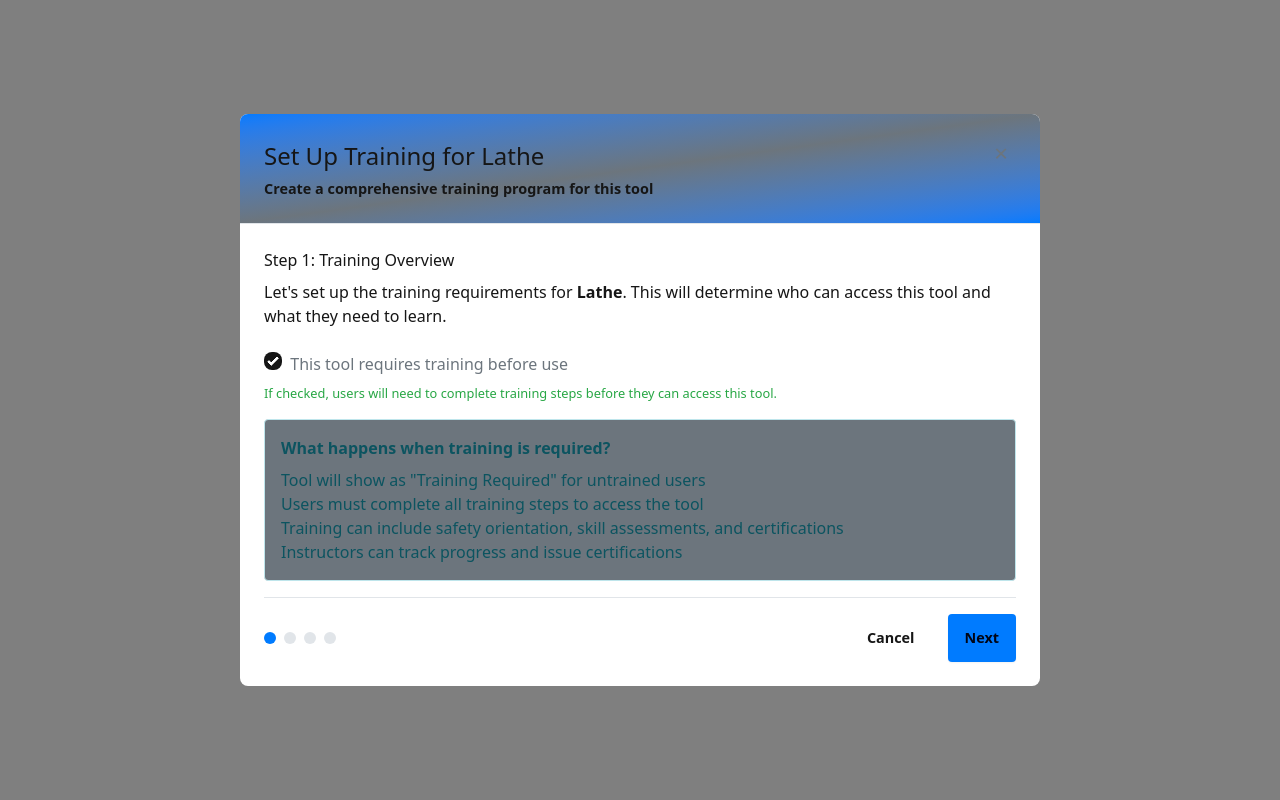
Test: walking the wizard › adds and removes steps, but never offers to remove the last one
Step 1. Click the button "Next" → x=982, y=638, box [948,614,1016,662]
(page scrolled)
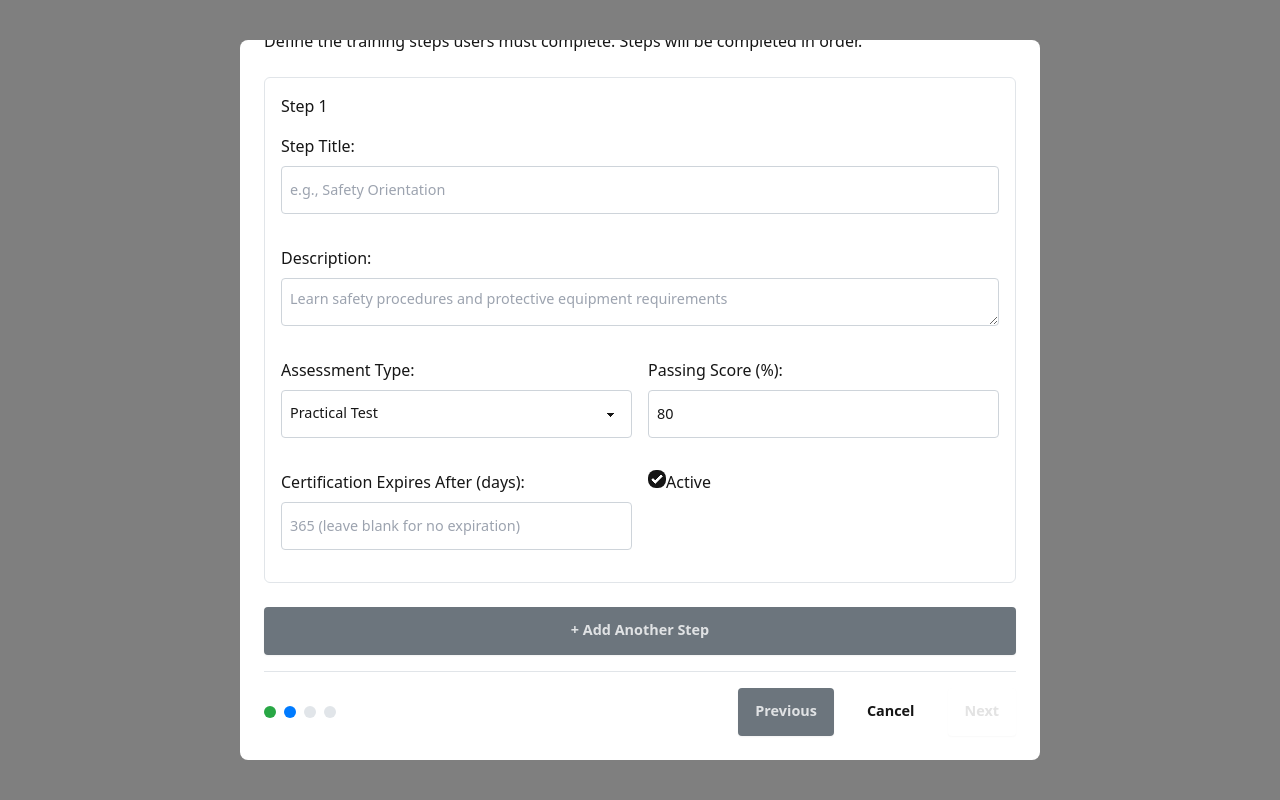
Now the number of fields is 1, box [281,166,999,214]
Step 2. Click the button "+ Add Another Step" → x=640, y=631, box [264,607,1016,655]
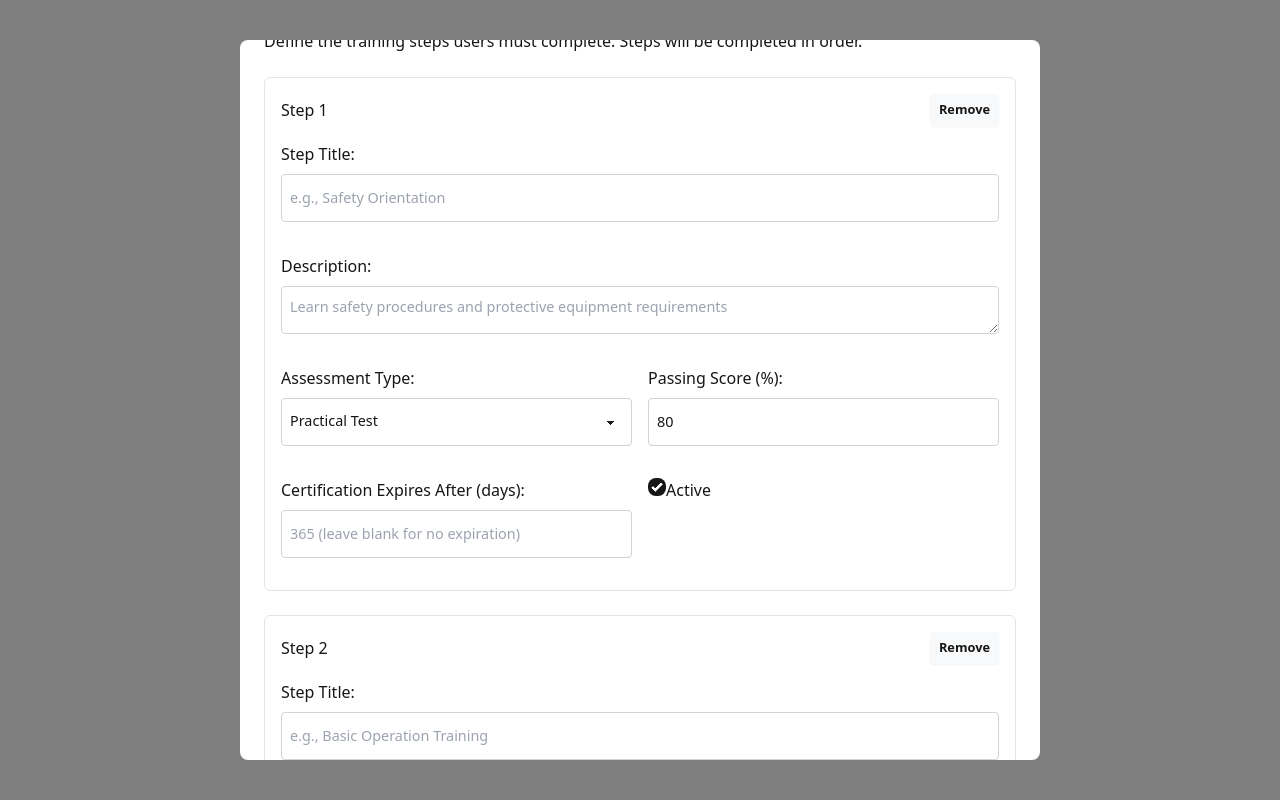
Now the number of fields is 2, box [281,174,999,222]; [281,712,999,760]
Step 3. Click the button "Remove" in the row of "Step 1" → x=964, y=110, box [930,94,999,126]
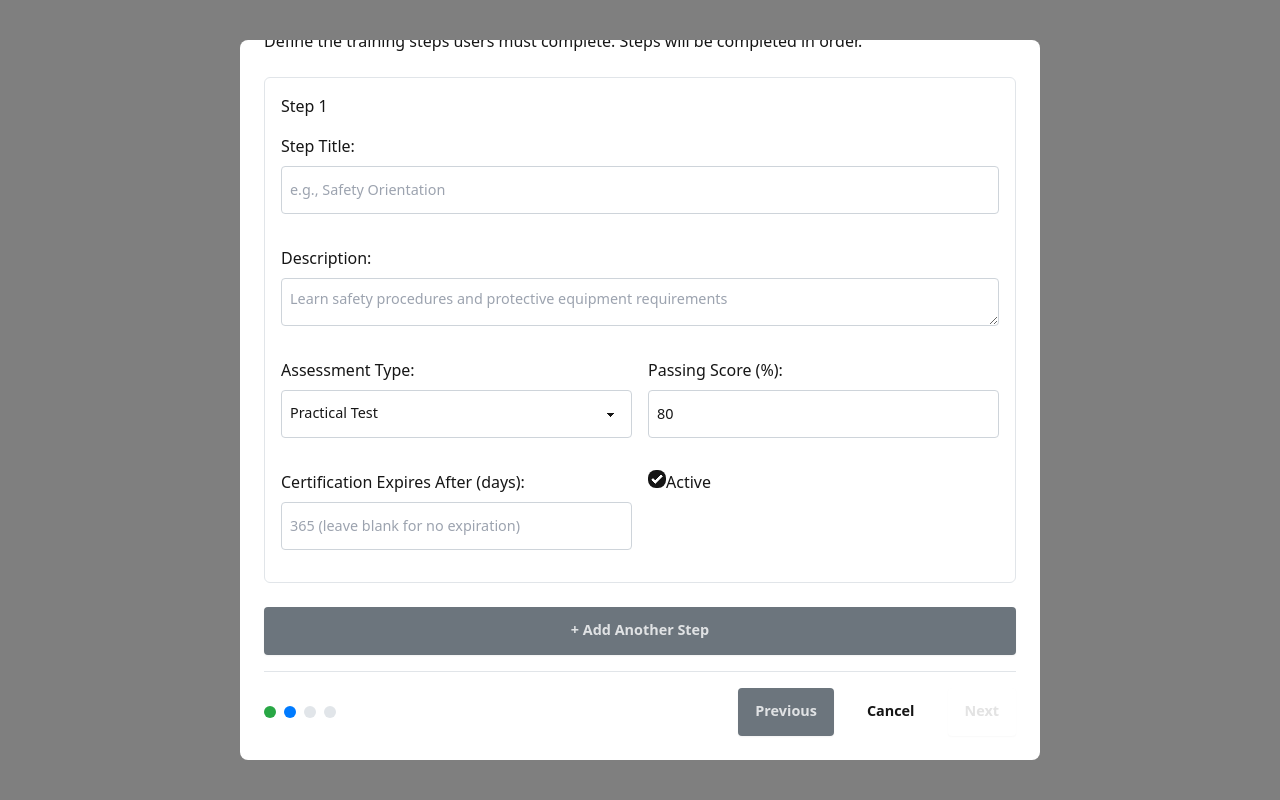
Now the number of fields is 1, box [281,166,999,214]
